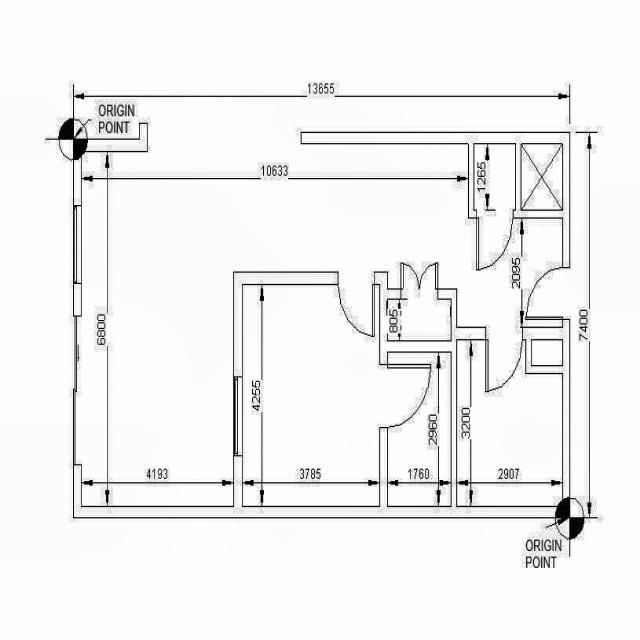Column: (73, 138, 82, 160), (562, 497, 570, 518), (555, 506, 562, 518)
Door: (379, 364, 432, 428), (522, 266, 570, 328), (486, 326, 526, 394), (473, 209, 516, 272), (338, 271, 374, 338)
Double-Door: (401, 262, 438, 300)
Sliding Door: (73, 316, 82, 466)
Window: (233, 376, 243, 456), (73, 205, 82, 284)
